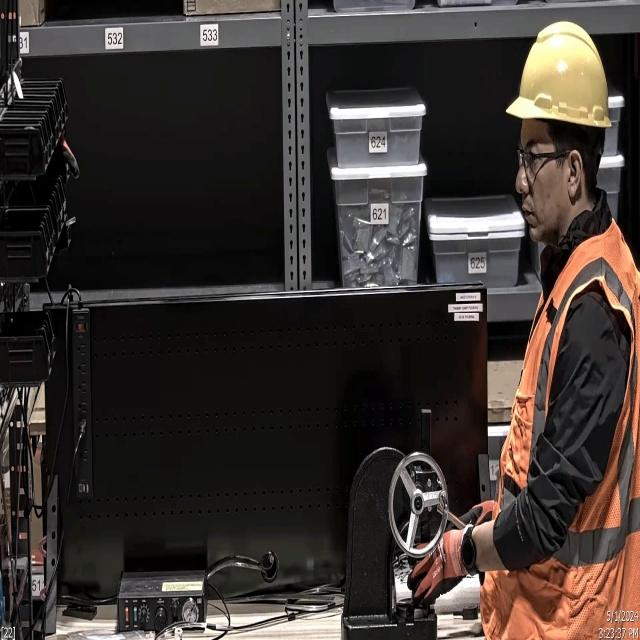gloves: (406, 522, 471, 615)
